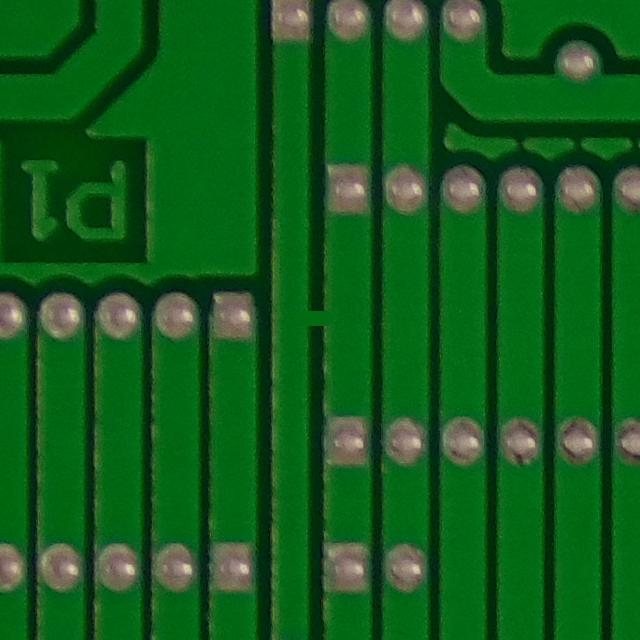short: (283, 277, 358, 364)
